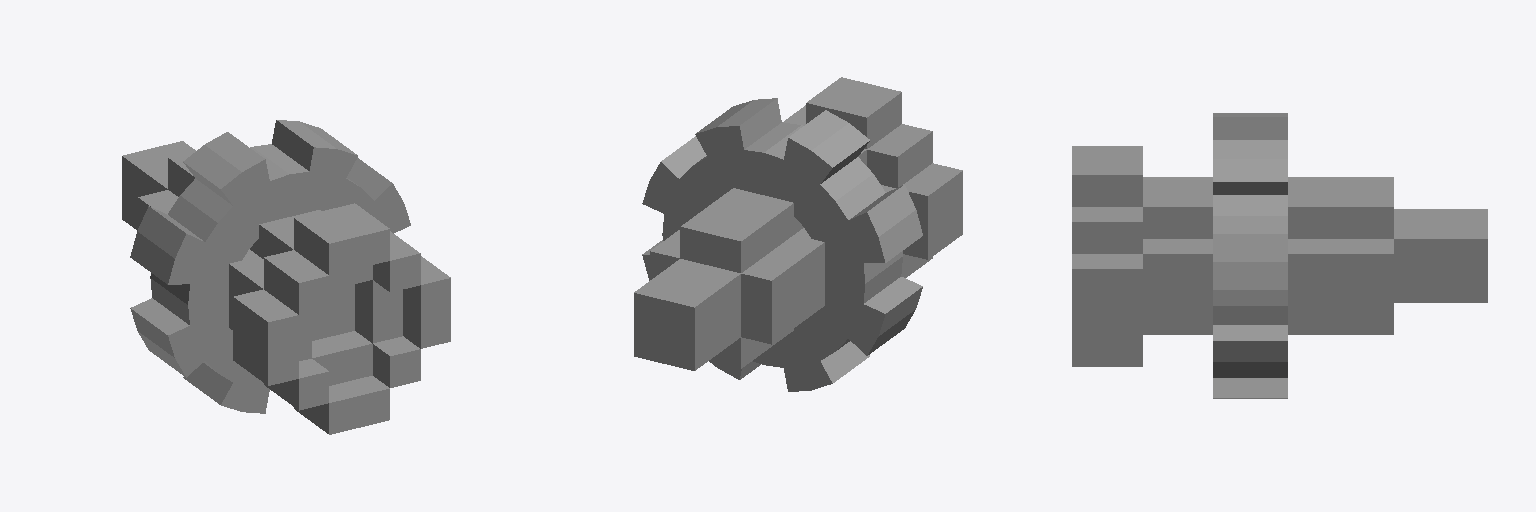
File: block_grinder_shaft.obj
3 renders of one model, left to right at view 1: azimuth 30°, elevation 25°; view 2: azimuth 150°, elevation 25°; view 3: azimuth 270°, elevation 25°, orthographic.
Visible parts, largest first — view 1: Rod.001_Cube.004; view 2: Rod.001_Cube.004; view 3: Rod.001_Cube.004.
Part boxes in pixels (x1,y1,x2,y2): Rod.001_Cube.004: (122,120,450,434); Rod.001_Cube.004: (634,77,962,391); Rod.001_Cube.004: (1072,113,1487,398).
Size of the model in its own units: 0.9987 by 0.9987 by 1.48.